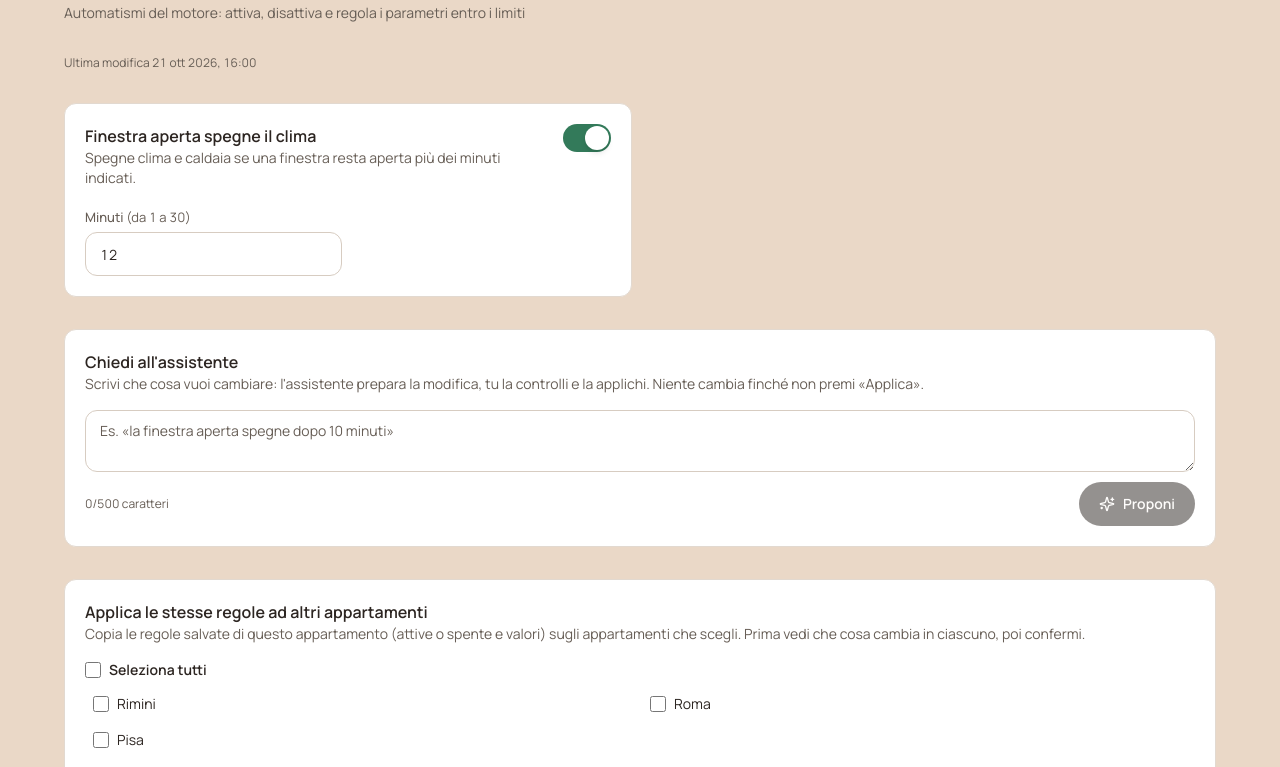
Regole: copia su altri appartamenti (D-151) › niente da cambiare in nessun appartamento: la conferma è disattivata
Check: the element with test id "rule-card-window_open_off" is shown, box [64,103,632,297]
Click the checkbox labelled "Roma" at x=658, y=704, box [650,696,666,712]
(page scrolled)
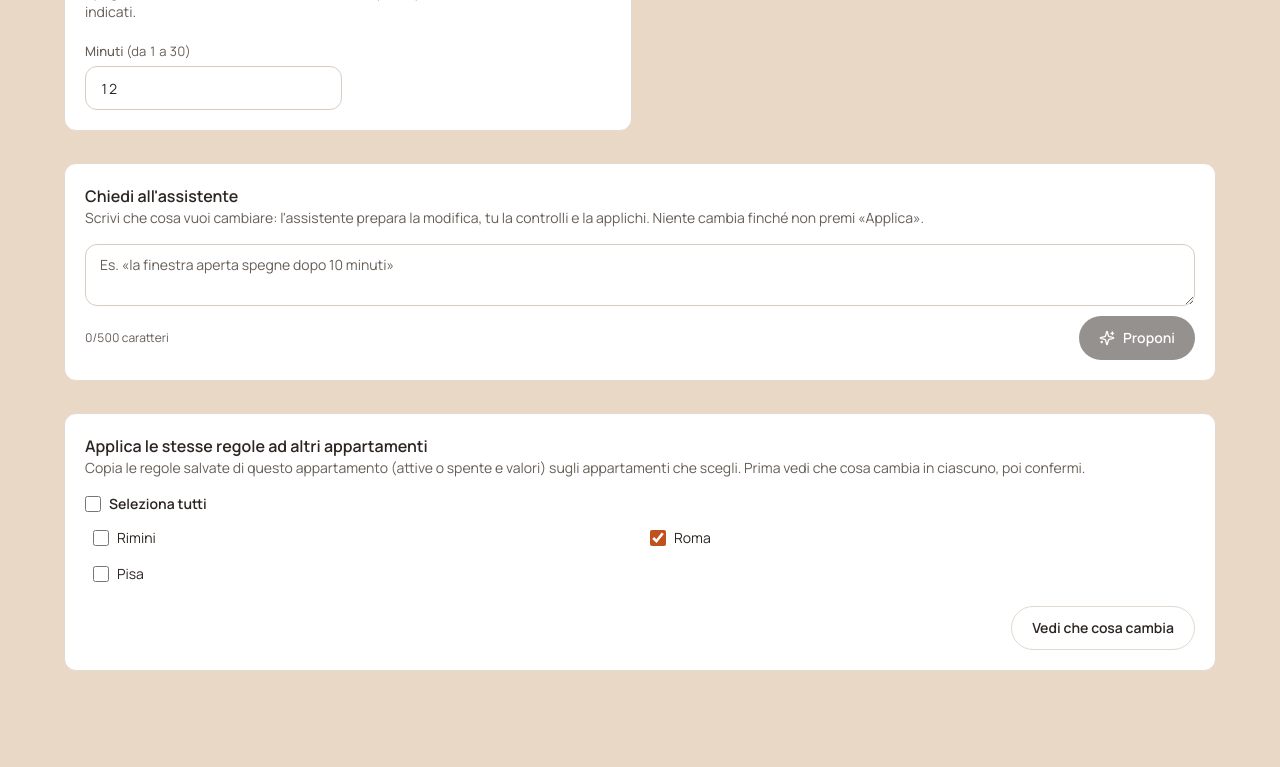
Click the button with test id "rules-copy-preview" at x=1103, y=628, box [1011,606,1195,650]
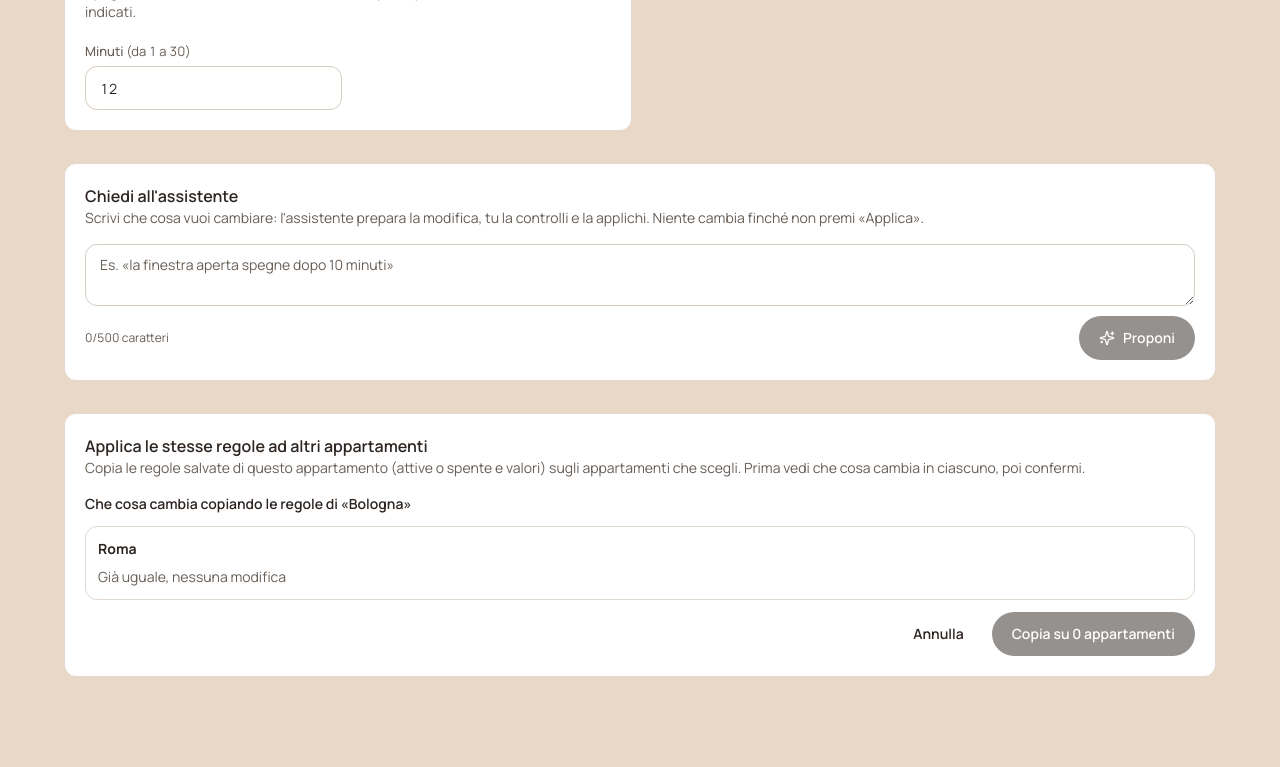
Check: the button with test id "rules-copy-confirm" is disabled, box [992,612,1195,656]
